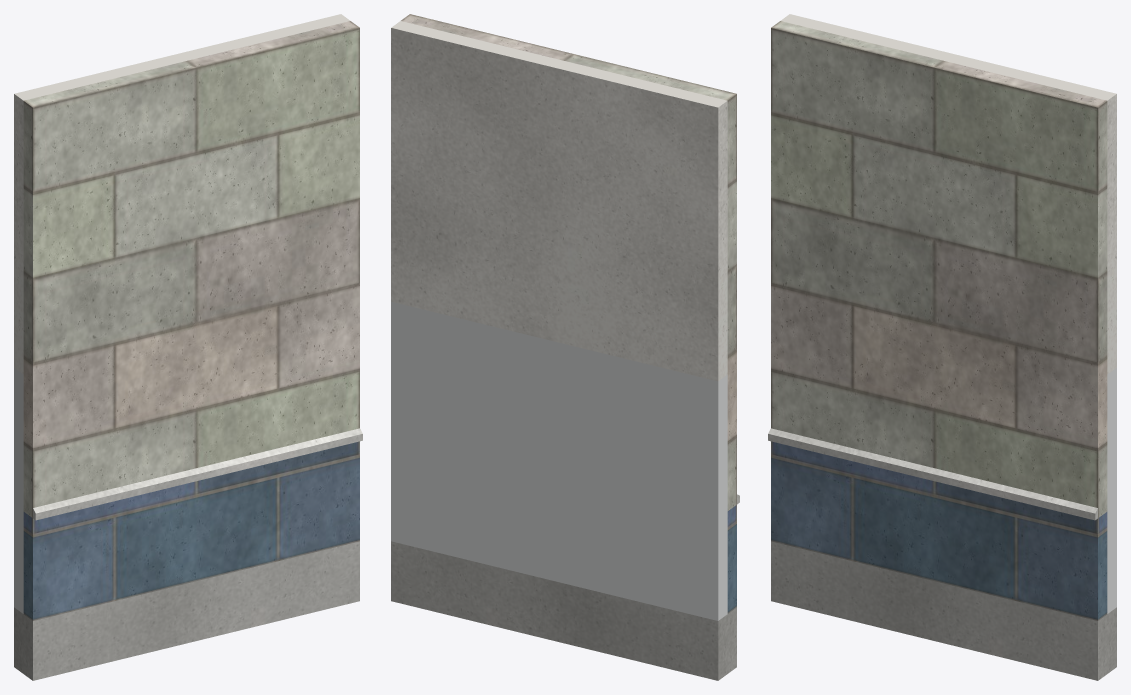
Rendered from r_plain.glb.
3 renders of one model, left to right at view 1: azimuth 30°, elevation 25°; view 2: azimuth 150°, elevation 25°; view 3: azimuth 330°, elevation 25°, orthographic.
Parts seen in each view (by area): view 1: r_plain_cmu, r_plain_cmu2, r_plain_concrete, r_plain_plaster, r_plain_coping, r_plain_tile; view 2: r_plain_plaster, r_plain_tile, r_plain_concrete, r_plain_cmu, r_plain_cmu2; view 3: r_plain_cmu, r_plain_cmu2, r_plain_concrete, r_plain_plaster, r_plain_coping, r_plain_tile.
Part boxes in pixels (<box>): r_plain_cmu: <box>23,21,359,517</box>; r_plain_cmu2: <box>23,441,359,620</box>; r_plain_concrete: <box>14,541,359,680</box>; r_plain_plaster: <box>14,14,350,374</box>; r_plain_coping: <box>33,428,362,520</box>; r_plain_tile: <box>14,368,23,613</box>; r_plain_plaster: <box>391,21,727,381</box>; r_plain_tile: <box>391,301,727,620</box>; r_plain_concrete: <box>391,541,736,680</box>; r_plain_cmu: <box>401,14,736,510</box>; r_plain_cmu2: <box>727,505,736,613</box>; r_plain_cmu: <box>771,21,1107,517</box>; r_plain_cmu2: <box>771,441,1107,620</box>; r_plain_concrete: <box>771,541,1116,680</box>; r_plain_plaster: <box>780,14,1116,374</box>; r_plain_coping: <box>768,428,1097,520</box>; r_plain_tile: <box>1107,368,1116,613</box>.
Size of the model in its own units: 2 by 3.35 by 0.23.
6 materials, 5 textured.
